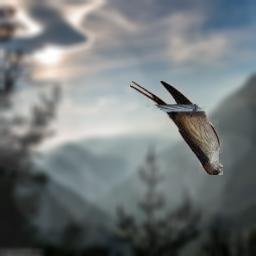Swallow: (127, 81, 223, 175)
